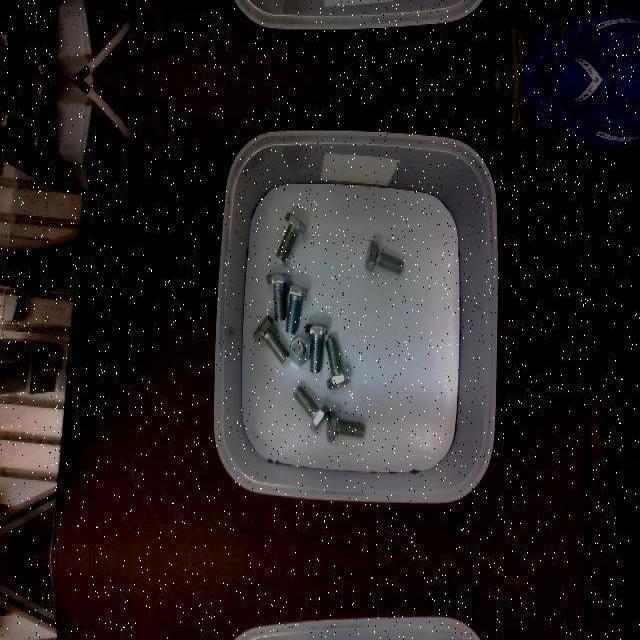screw: (253, 315, 289, 363), (293, 385, 330, 431), (276, 212, 306, 262), (365, 239, 404, 273), (325, 337, 350, 389), (326, 410, 365, 442), (304, 322, 328, 372), (284, 283, 307, 333), (267, 272, 290, 320), (289, 334, 310, 366)
